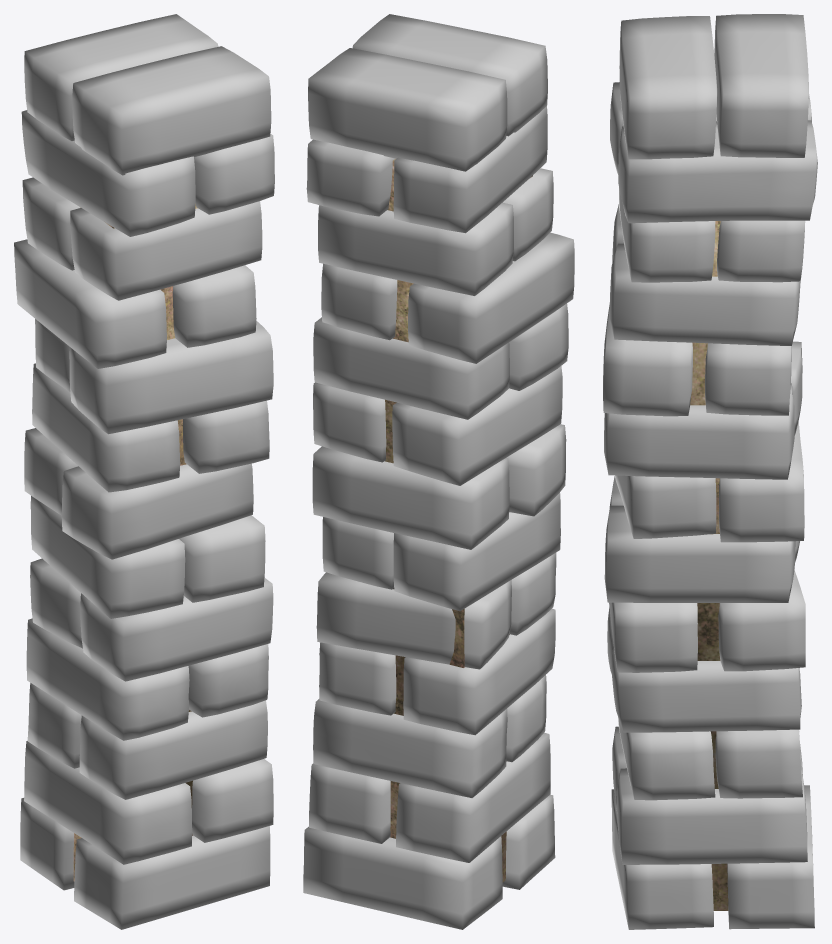
The model's file is pillarShort.fbx.
The picture shows the model from 3 angles, left to right: view 1: azimuth 30°, elevation 25°; view 2: azimuth 150°, elevation 25°; view 3: azimuth 270°, elevation 25°; orthographic projection. The views are drawn at different scales.
Parts seen in each view (by area): view 1: PillarShort; view 2: PillarShort; view 3: PillarShort.
Part boxes in pixels (box(x1,y1,x2,y2)): PillarShort: box(14, 14, 274, 929); PillarShort: box(303, 14, 574, 929); PillarShort: box(603, 14, 817, 929).
Size of the model in its own units: 38.34 by 162 by 37.83.
